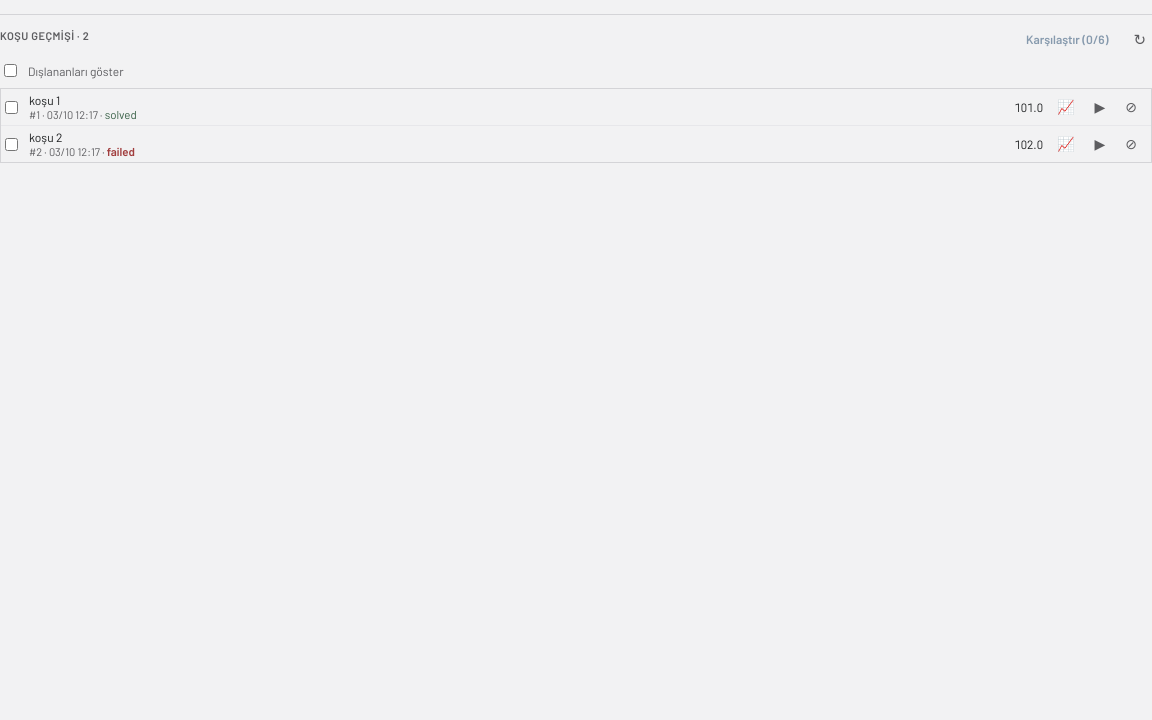
Scenario: CrashHistory › tek çözülmüş koşuda animasyon yerine not
Click the checkbox named "koşu 1 seç" at (12, 107), box [5,100,18,114]
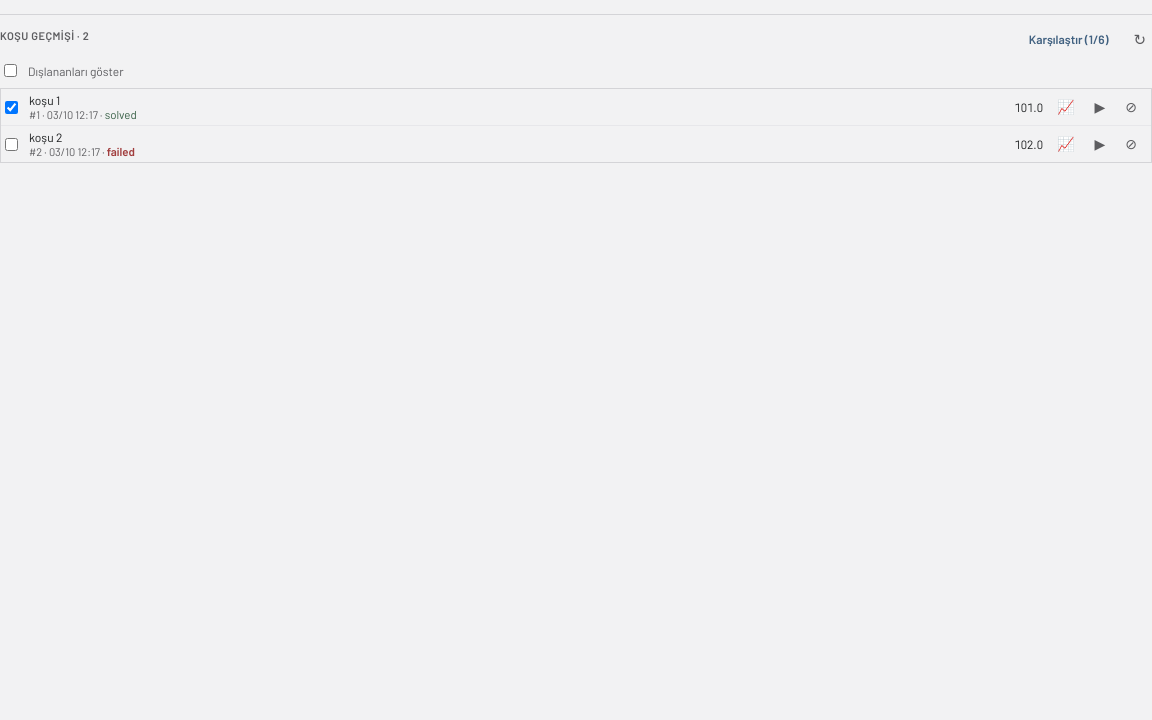
Click the checkbox named "koşu 2 seç" at (12, 144), box [5,138,18,150]
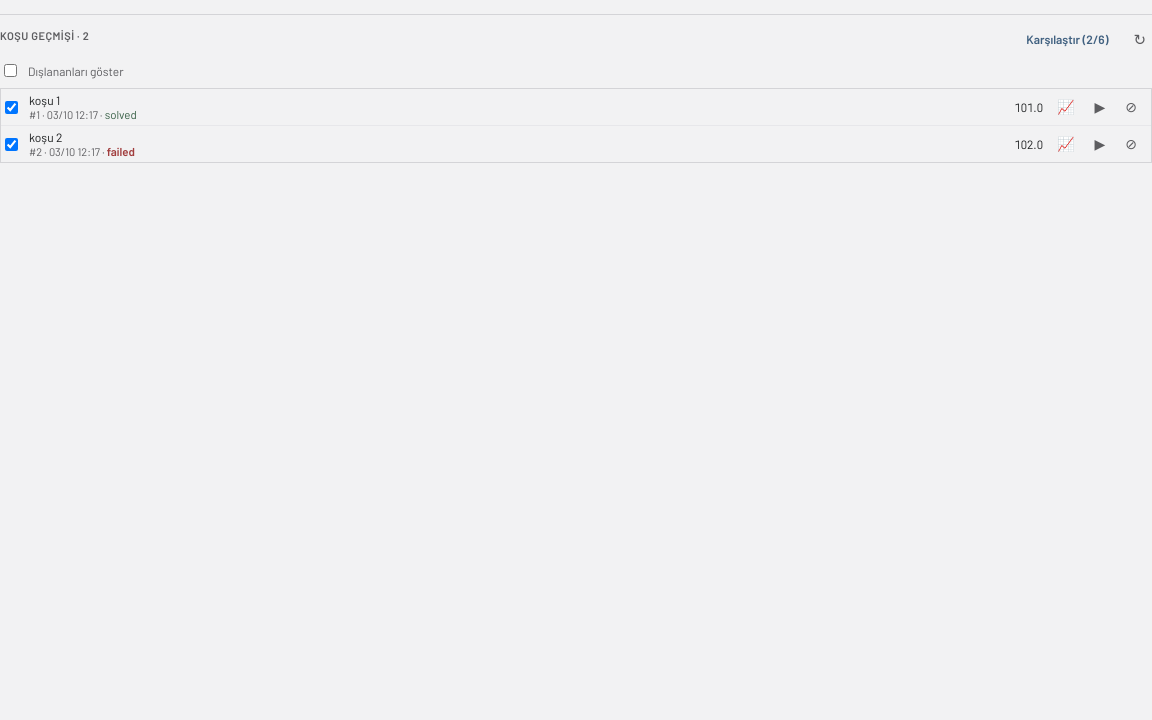
Click the button "Karşılaştır (2/6)" at (1067, 39), box [1015,25,1119,53]
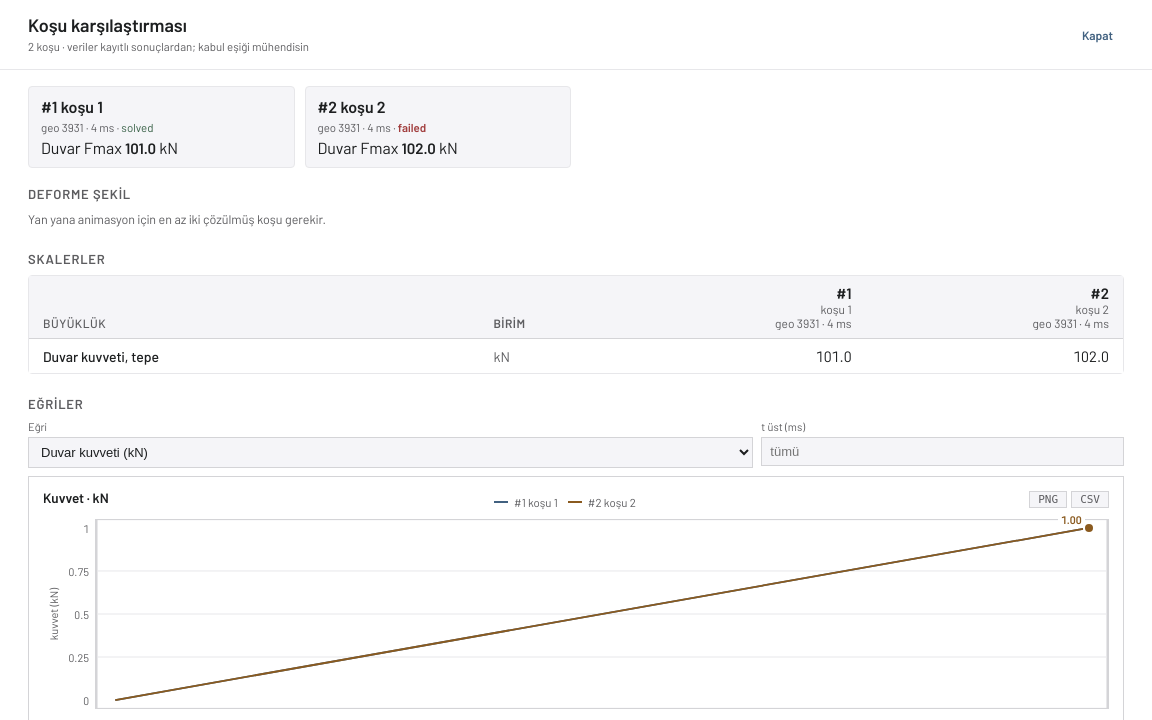
Expected: the dialog "Koşu karşılaştırması" shows "en az iki çözülmüş koşu", [28,211,326,227]
